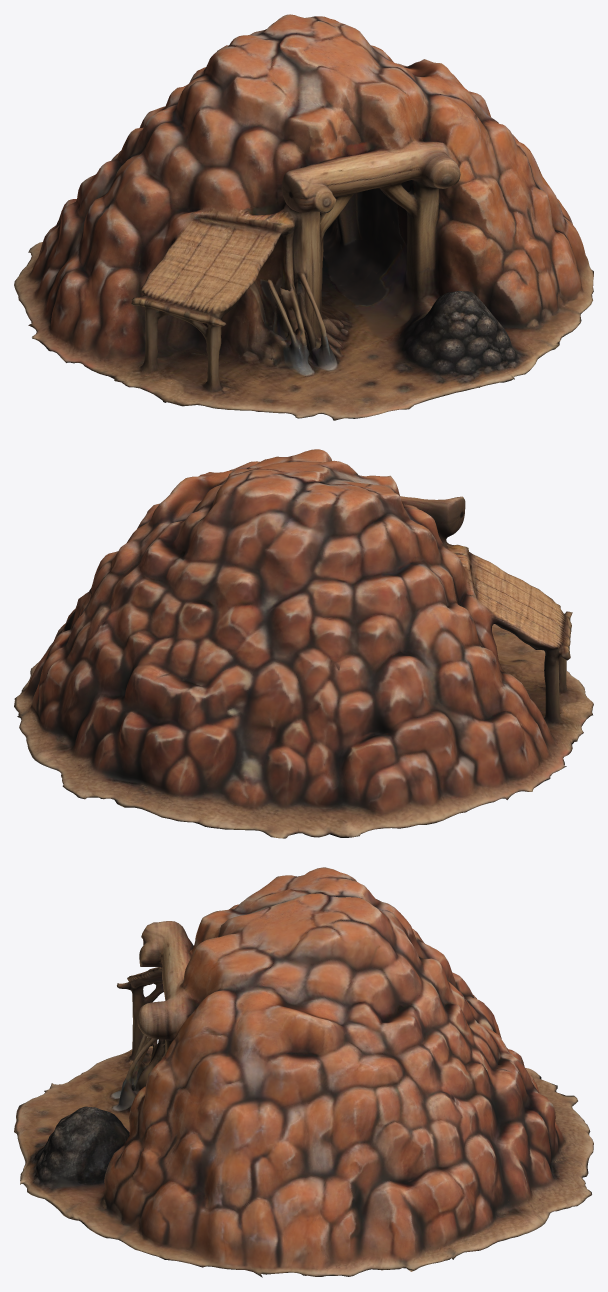
File: Mine (West African).fbx
3 views of the same model, one above another, from view 1: azimuth 30°, elevation 25°; view 2: azimuth 150°, elevation 25°; view 3: azimuth 270°, elevation 25° (orthographic). The views are drawn at different scales.
Visible parts, largest first — view 1: Mesh_0; view 2: Mesh_0; view 3: Mesh_0.
Part boxes in pixels (x1,y1,x2,y2): Mesh_0: (14, 14, 593, 420); Mesh_0: (14, 449, 593, 838); Mesh_0: (14, 867, 593, 1277).
Bounding box in the file's own units: 200 × 97.87 × 195.
Materials: 1 (1 with a texture image).
